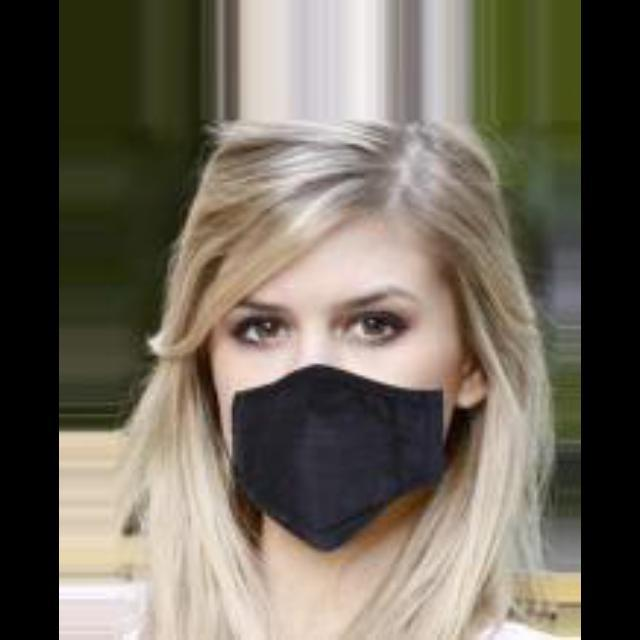suspicion: (190, 162, 494, 554)
